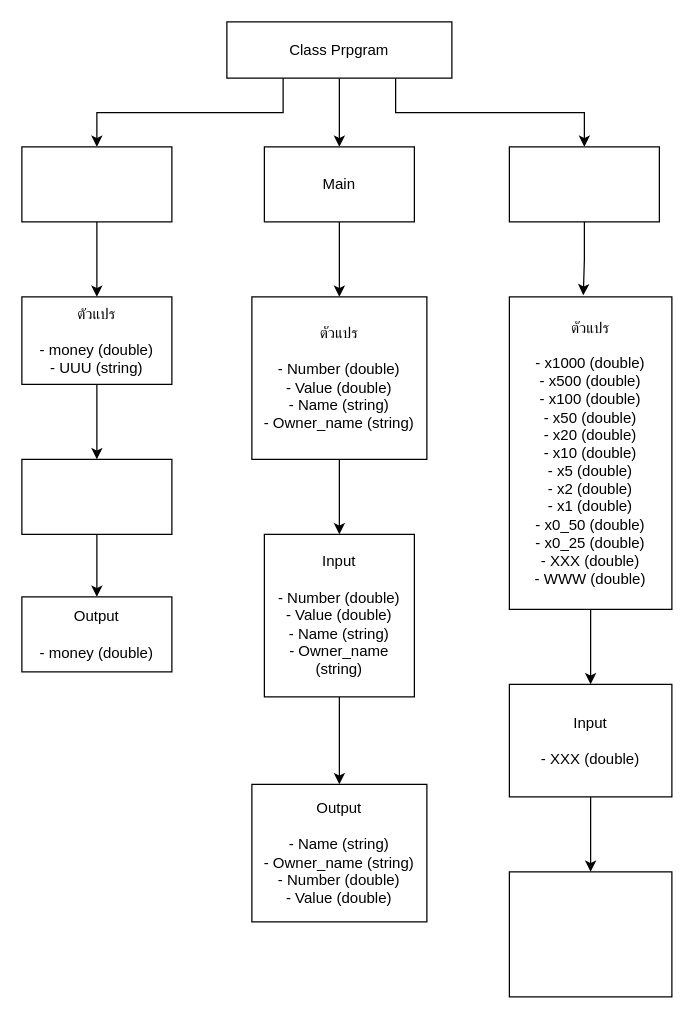
This 694x1019 diagram has some shape labels left out. Here are the shapes that lost their labels. From the top down, the centre of each, then its label:
[96,184]: Check_money
[583,184]: ABC
[96,496]: Input - money (double) - UUU (string)
[590,934]: Output - WWW (double)
